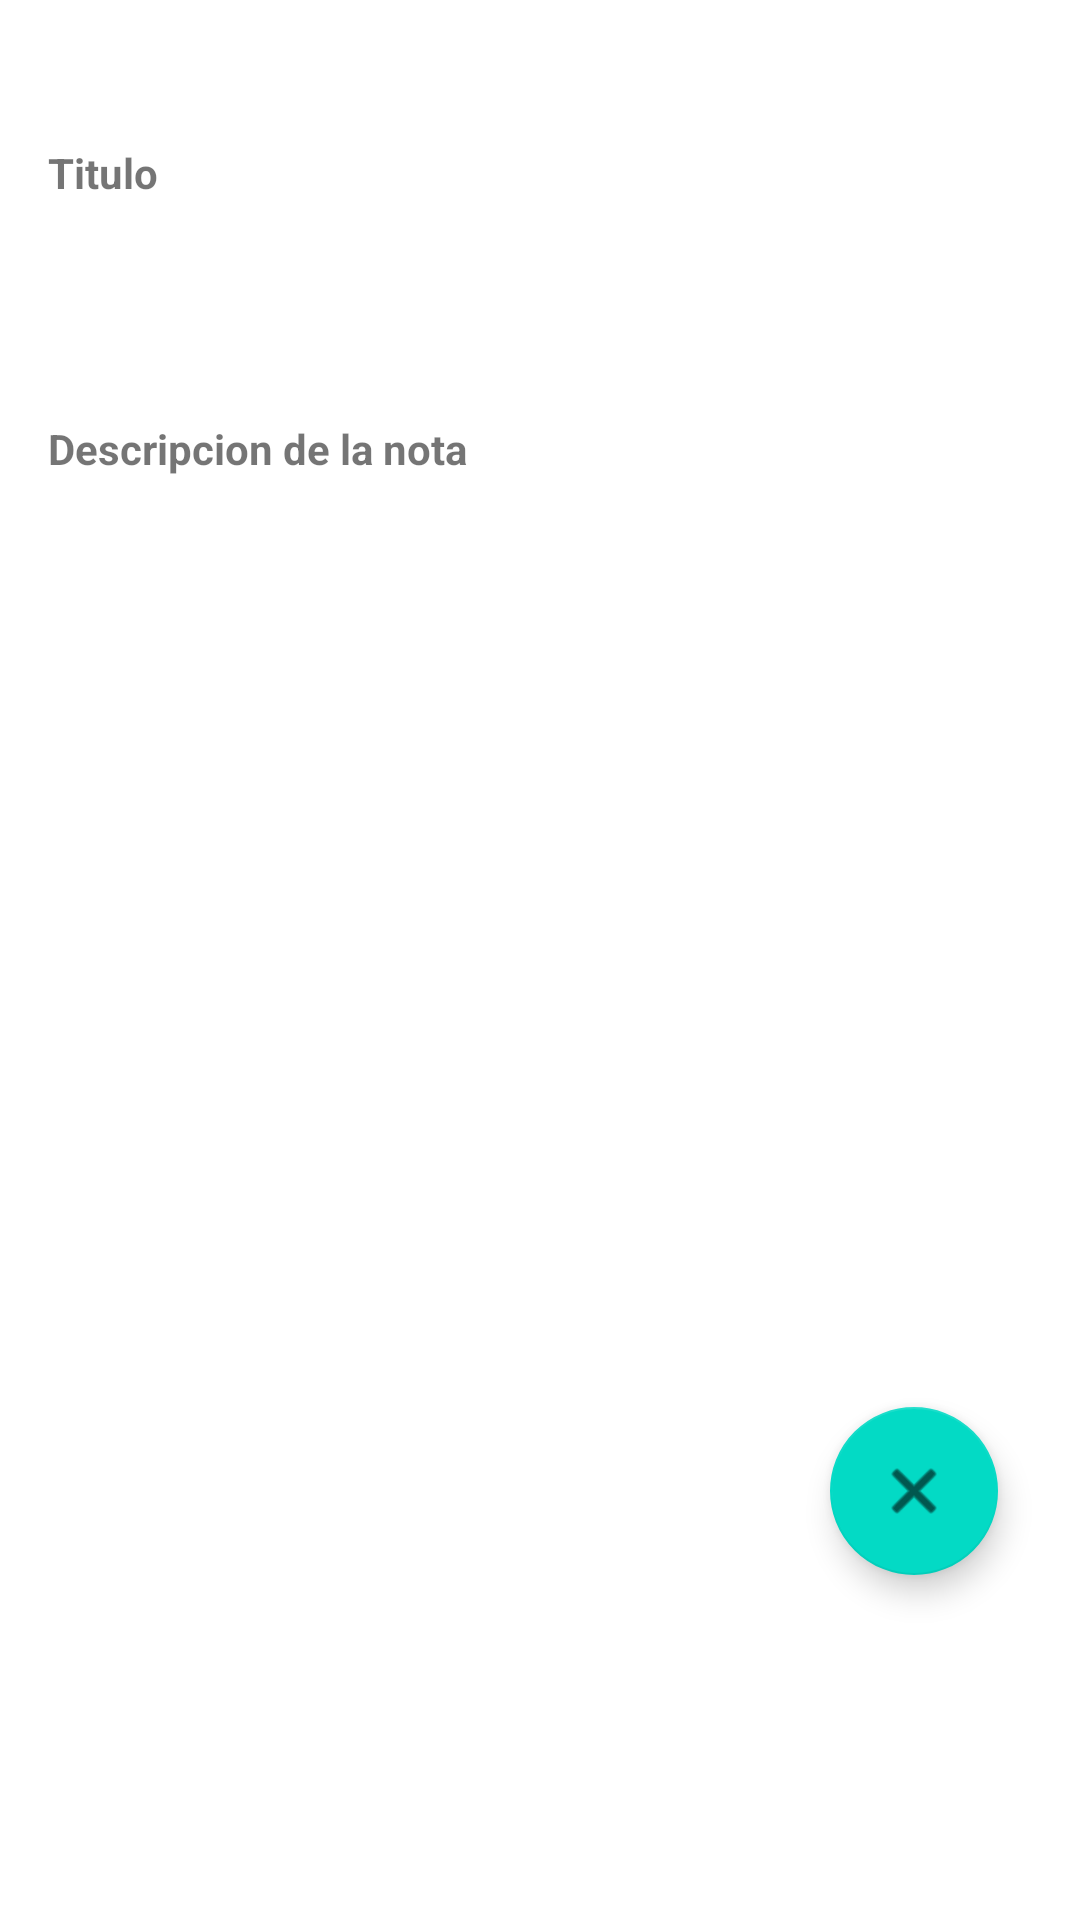

Named icons in this screenshot (1080*1920) and their bounding boxes, (x1, y1, x2, y2):
close clear cancel: (830, 1407, 998, 1575)
